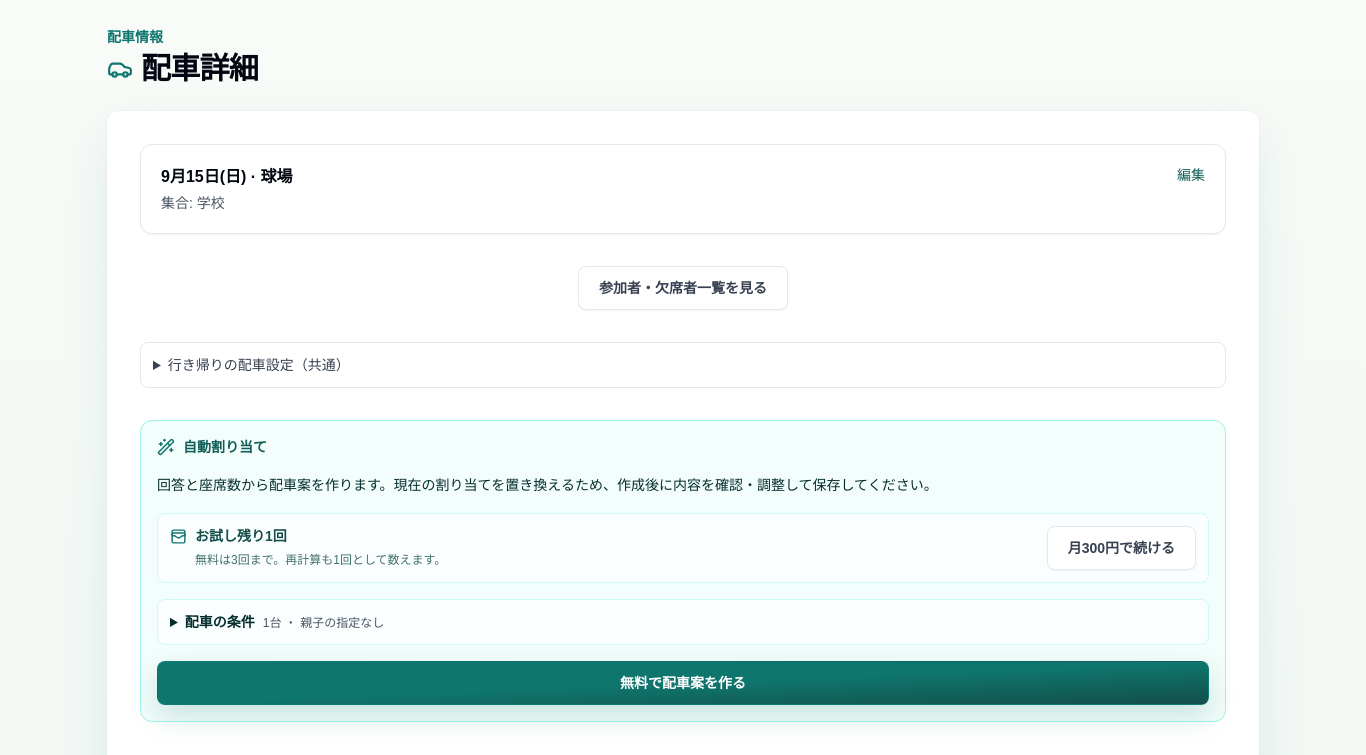
無料の最後の1回で作成した案を保持し、再実行は上限で止める
Step 1. Click the button "無料で配車案を作る" → (683, 683), box [157,661,1209,705]
(page scrolled)
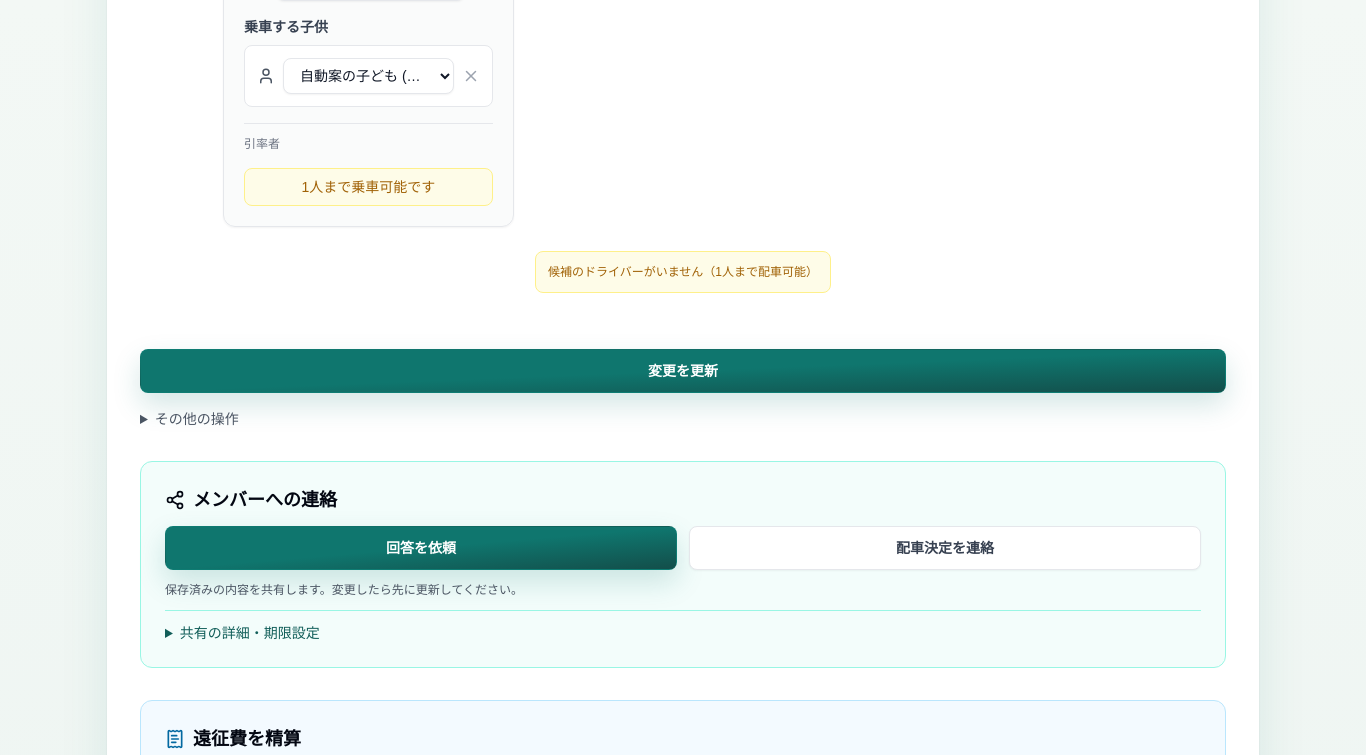
Expected: the button "変更を更新" is enabled, [140,349,1226,393]
Now the dropdown named "drivers.0.rideAssignments.0.childId" below "乗車する子供" shows "自動案の子ども (3年)", box [283,58,454,94]
